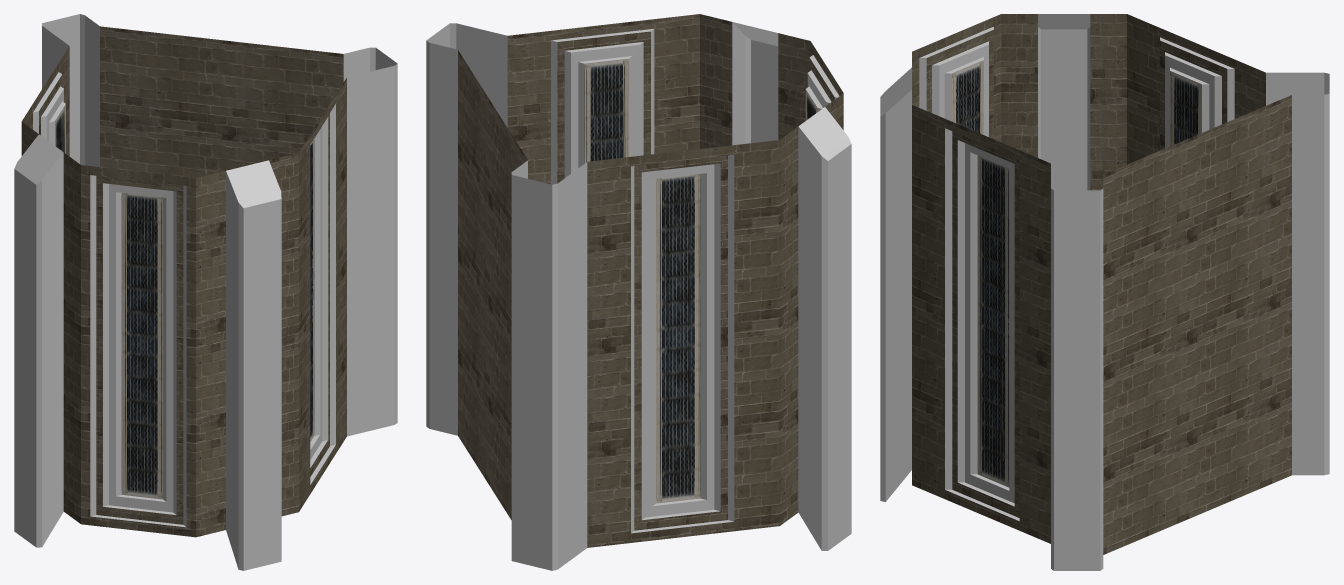
The model's file is SM_TowerExtension.FBX.
3 renders of one model, left to right at view 1: azimuth 30°, elevation 25°; view 2: azimuth 150°, elevation 25°; view 3: azimuth 270°, elevation 25°, orthographic. The views are drawn at different scales.
Parts seen in each view (by area): view 1: SM_TowerExtension; view 2: SM_TowerExtension; view 3: SM_TowerExtension.
Part boxes in pixels (x1=…): SM_TowerExtension: x1=14, y1=14, x2=397, y2=570; SM_TowerExtension: x1=426, y1=14, x2=851, y2=570; SM_TowerExtension: x1=880, y1=14, x2=1329, y2=570.
Size of what is drawn, in the model's own units: 2741 by 2741 by 2778.
